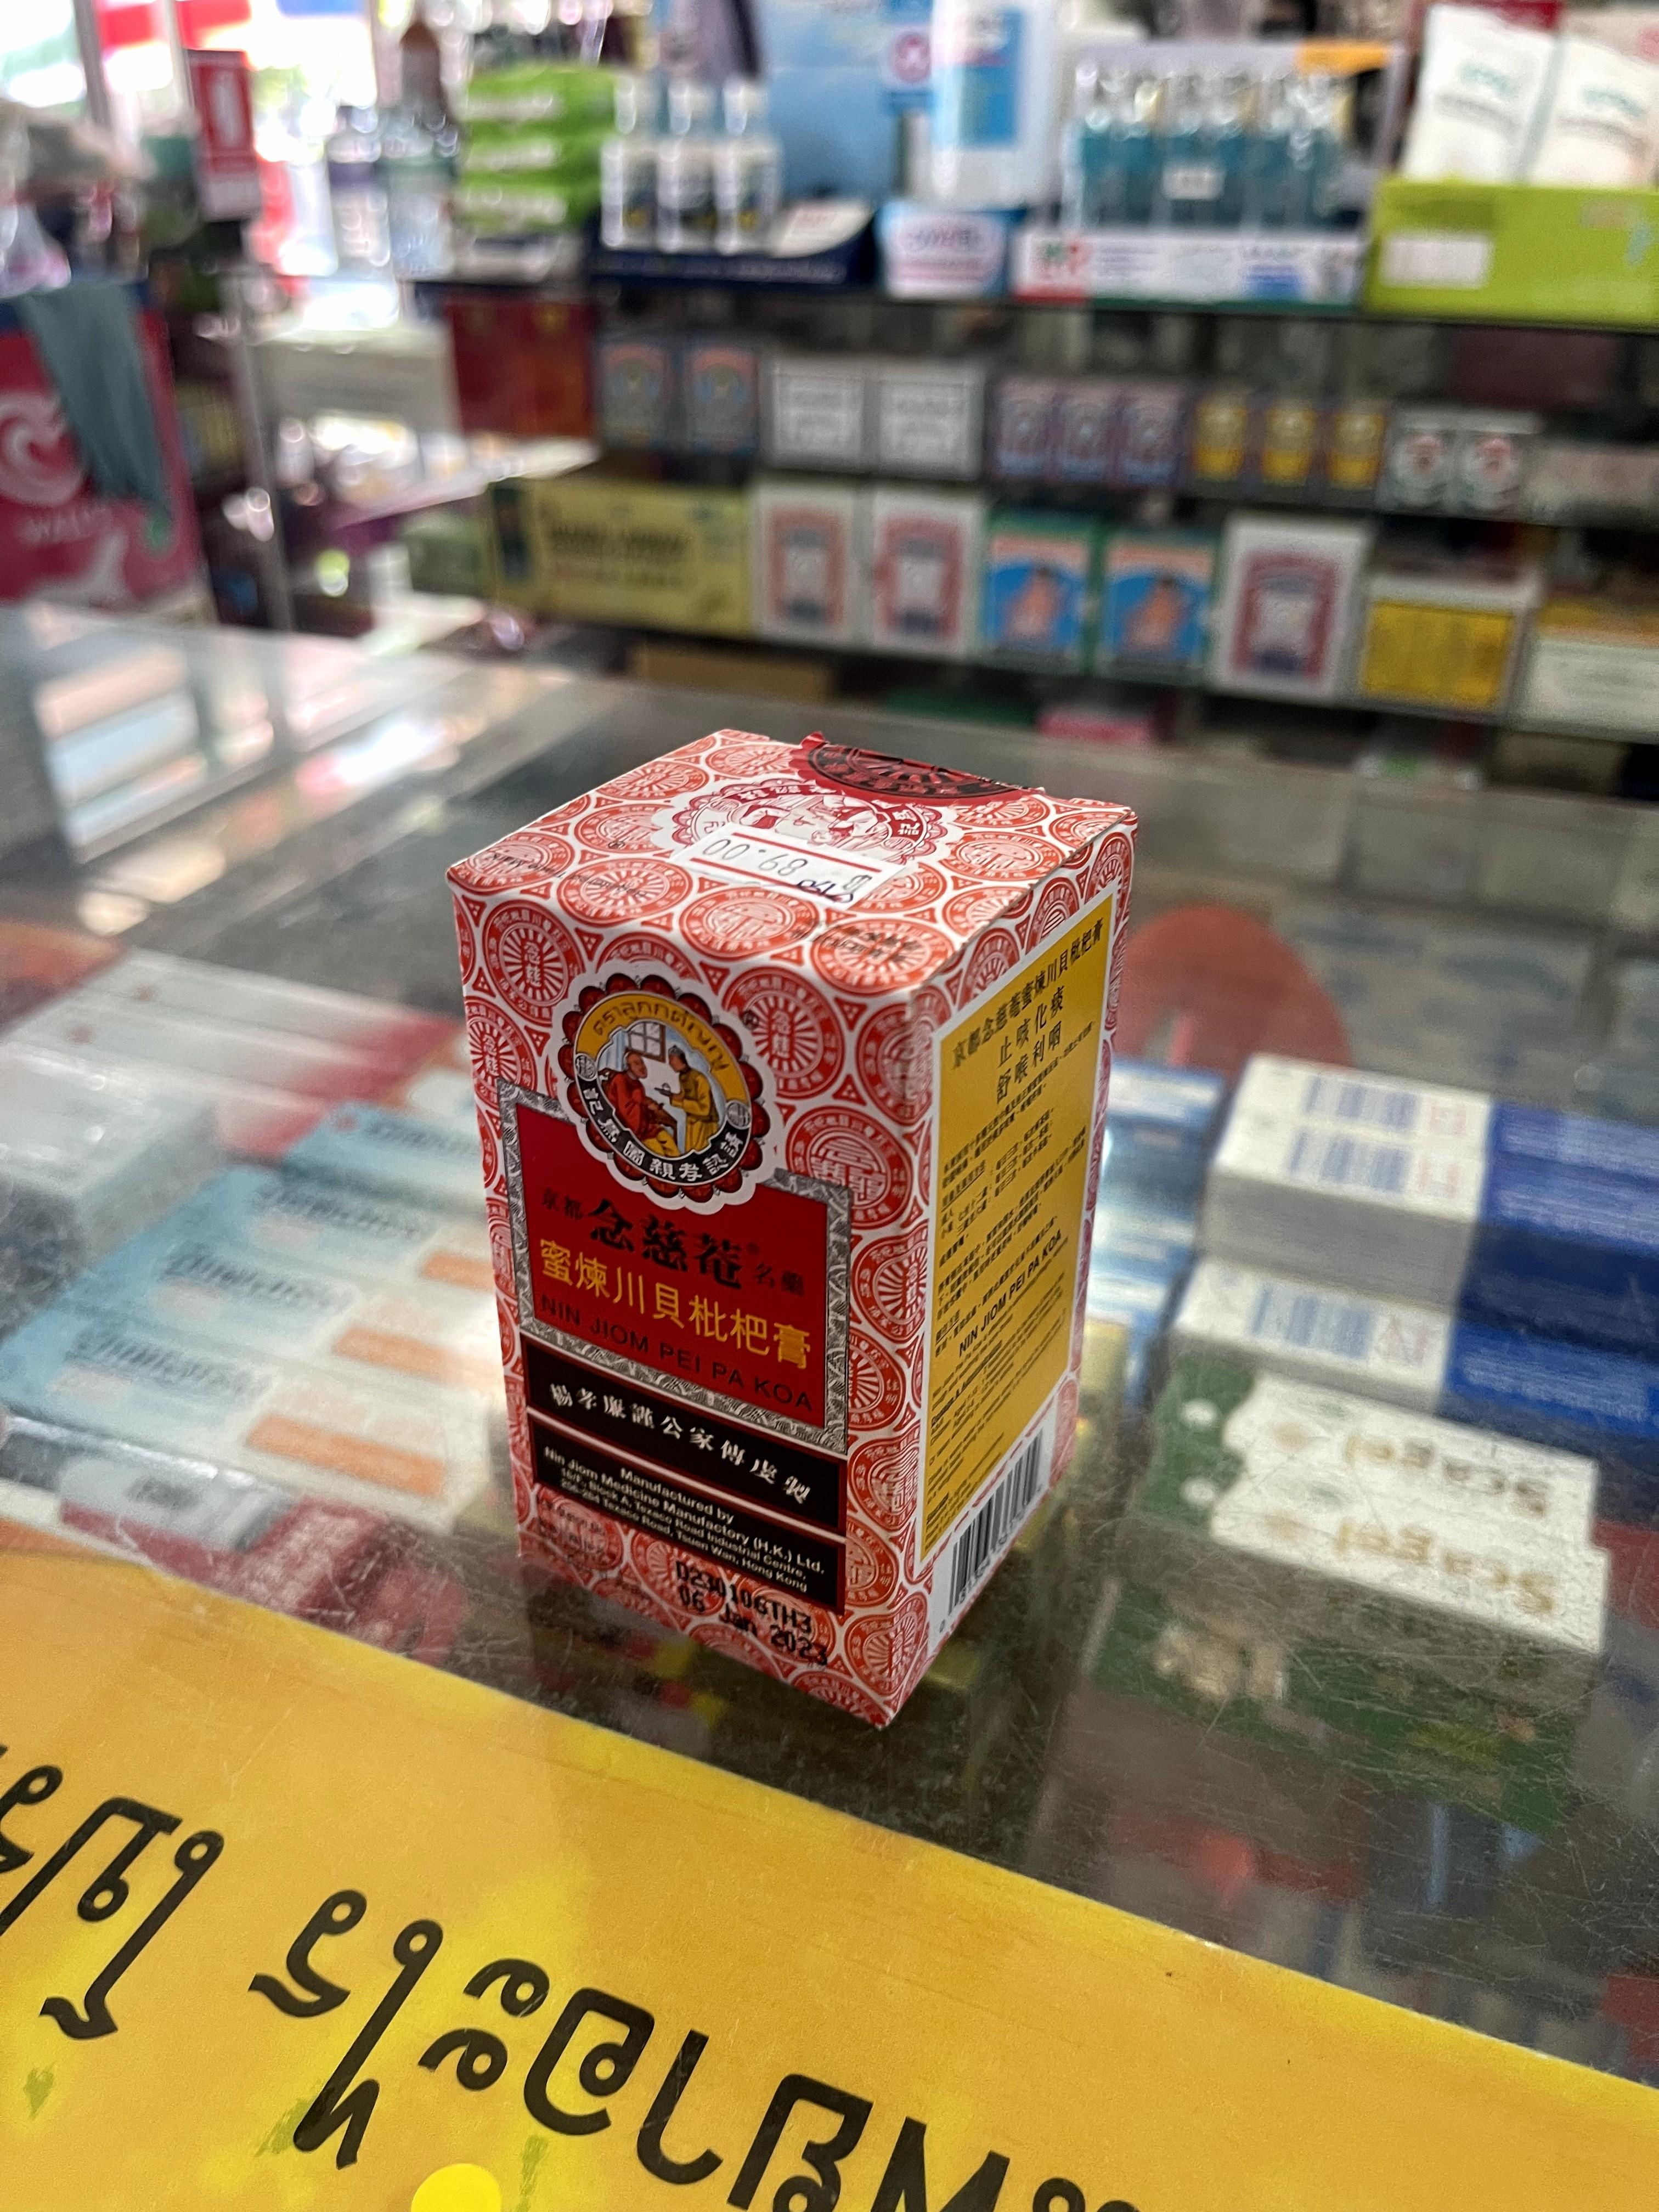Pei-Pa-Koa: (444, 735, 1138, 1714)
